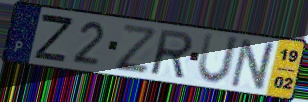2: (73, 20, 108, 67)
N: (228, 37, 280, 93)
R: (150, 28, 195, 81)
U: (194, 31, 242, 87)
Z: (33, 11, 76, 64), (113, 22, 157, 73)
